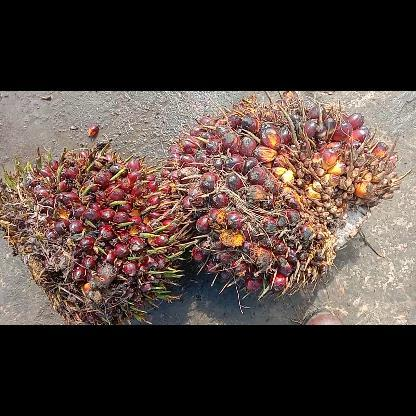Kurang masak: (0, 142, 195, 325)
TBS masak: (160, 91, 408, 297)
